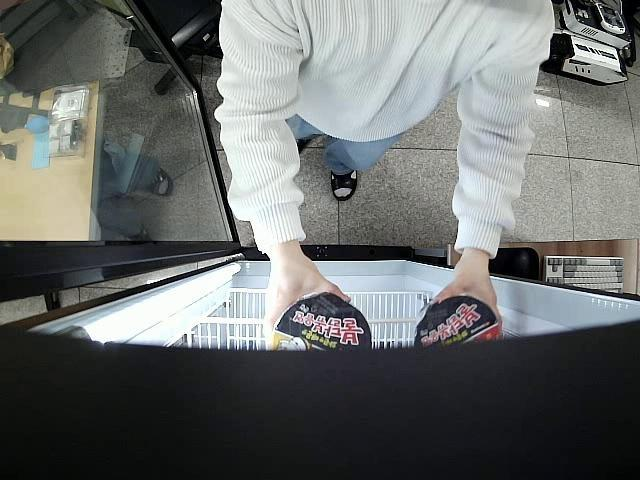07_buldak_L: (268, 292, 374, 352), (409, 298, 504, 343)
